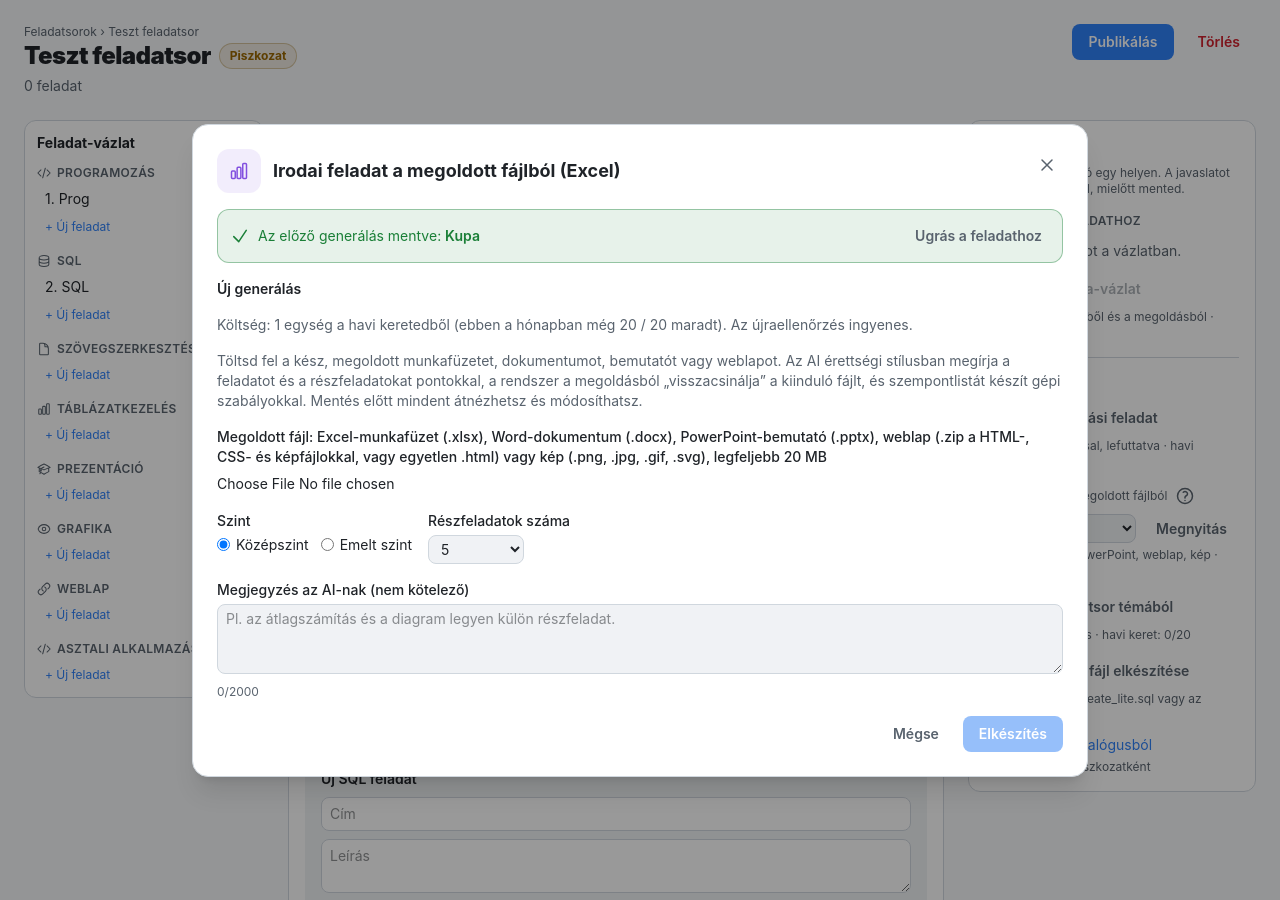
Test case: FeladatsorSzerkesztoComponent › MI-segítő panel belépési pontjai › irodai mentés után újranyitva az ablak jelzi a mentett feladatot; az „Ugrás a feladathoz” bezár és kinyitja a feladatot
Expected: the message with test id "io-last-saved" shows "Az előző generálás mentve: Kupa", [217,208,1063,262]
Click the button "Ugrás a feladathoz": [979, 236] box [907,222,1050,250]
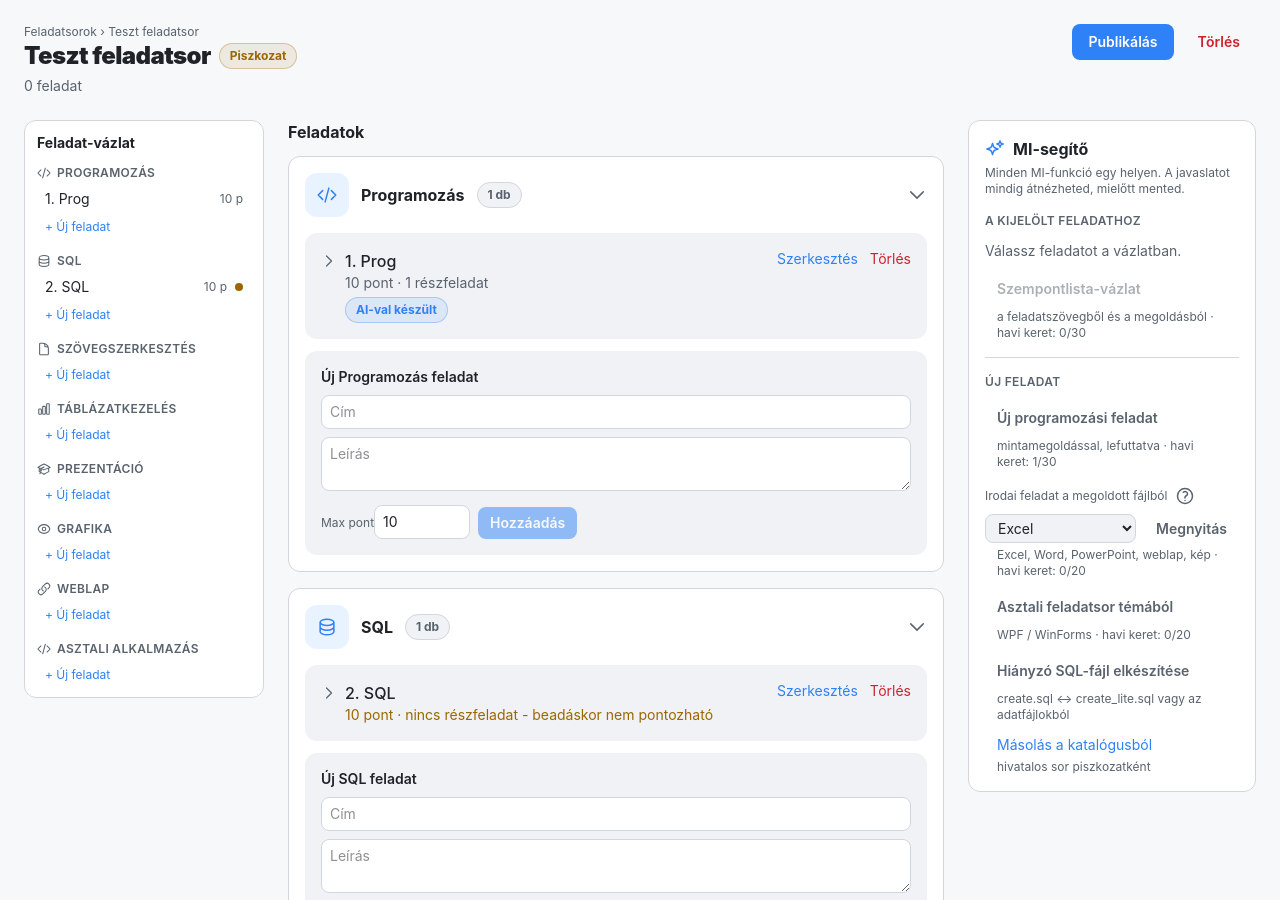
Expected: the dialog with test id "io-dialog" is gone
